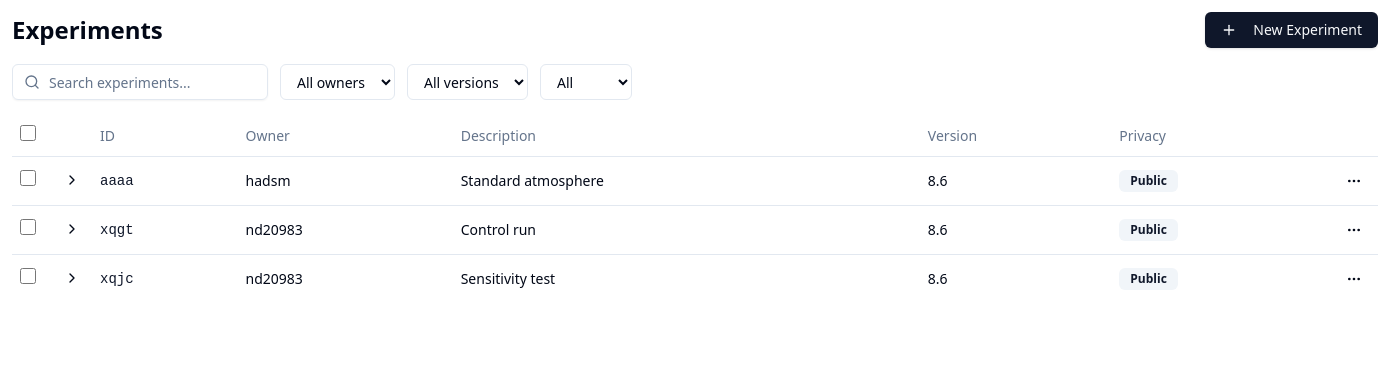
Test: ExplorerPage › select-all selects all visible experiments
What coordinates should you click on to do the following:
click the checkbox named "Select all"
I would click on:
 (28, 133)
Its box is [20, 125, 36, 141].
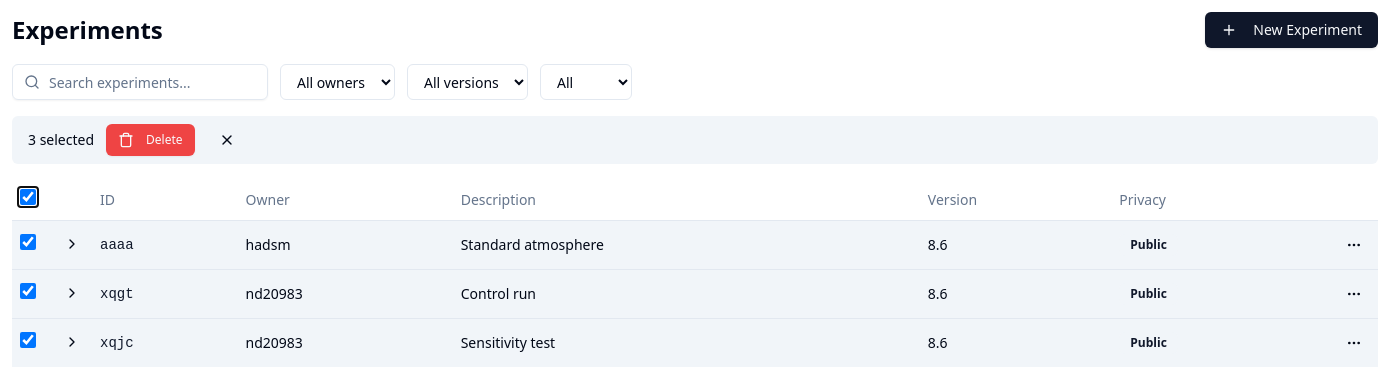
Check: the text "3 selected" is shown, box [28, 130, 94, 150]
